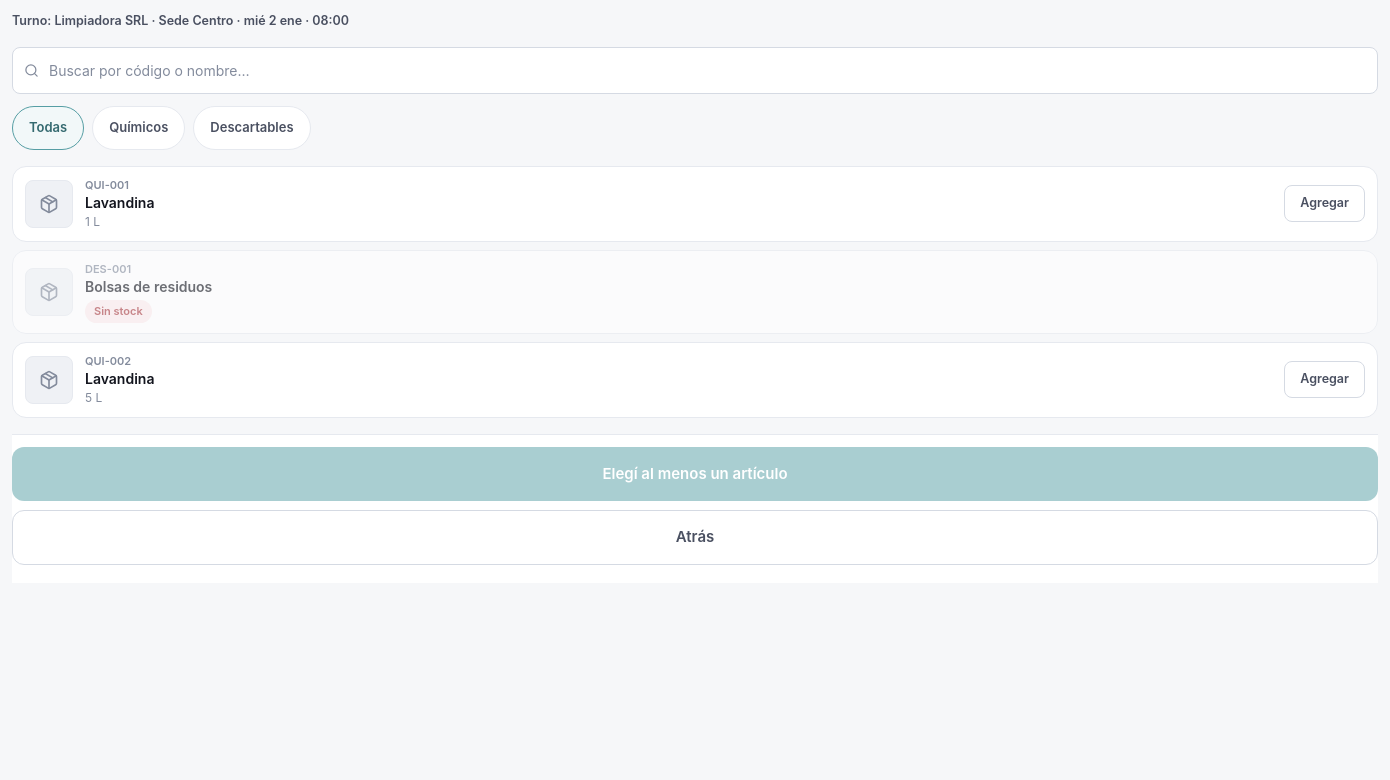
Test: WithdrawPage › en la revisión, la cantidad se ajusta y un artículo se puede quitar
Click the button with aria-label "Agregar Lavandina · 1 L".
click(1325, 204)  # box [1284,185,1365,222]
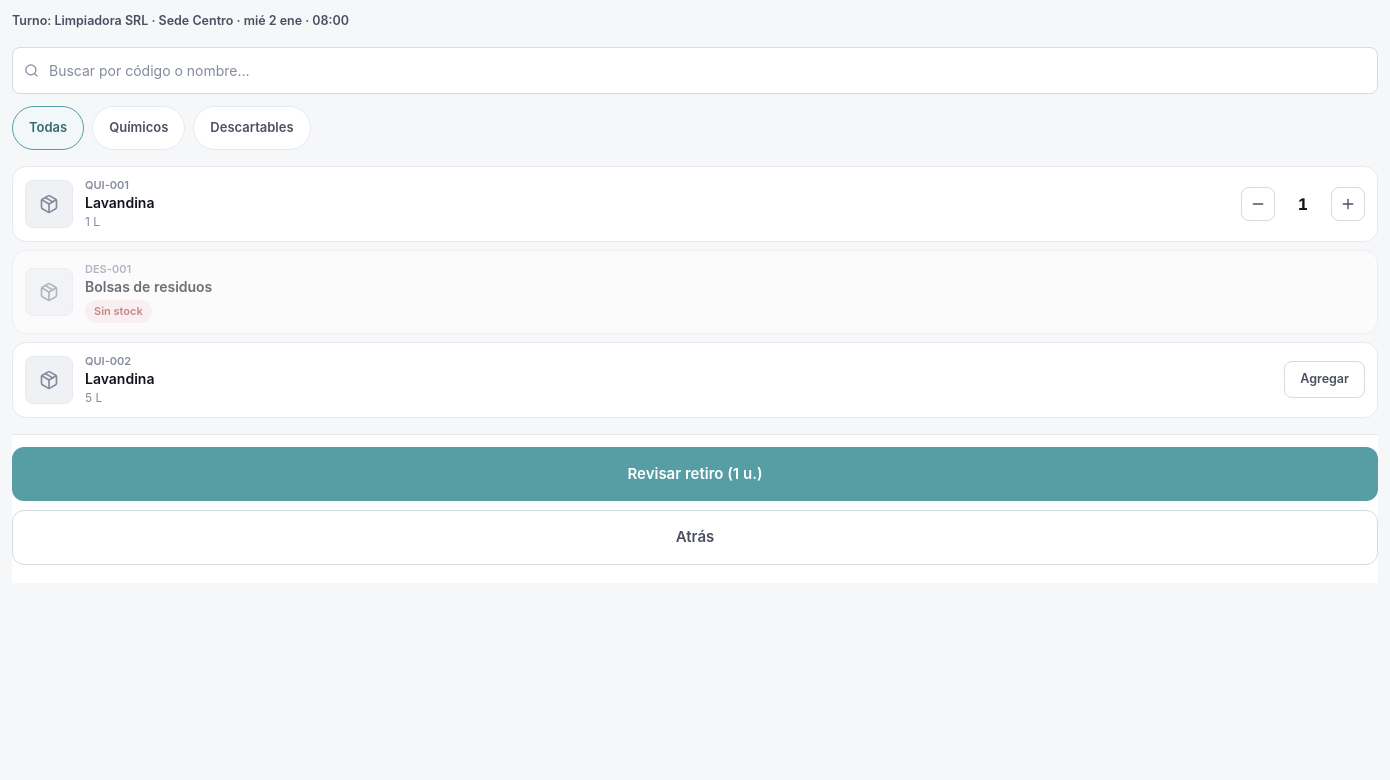
Click the button "Revisar retiro (1 u.)".
click(695, 474)  # box [12,446,1378,501]
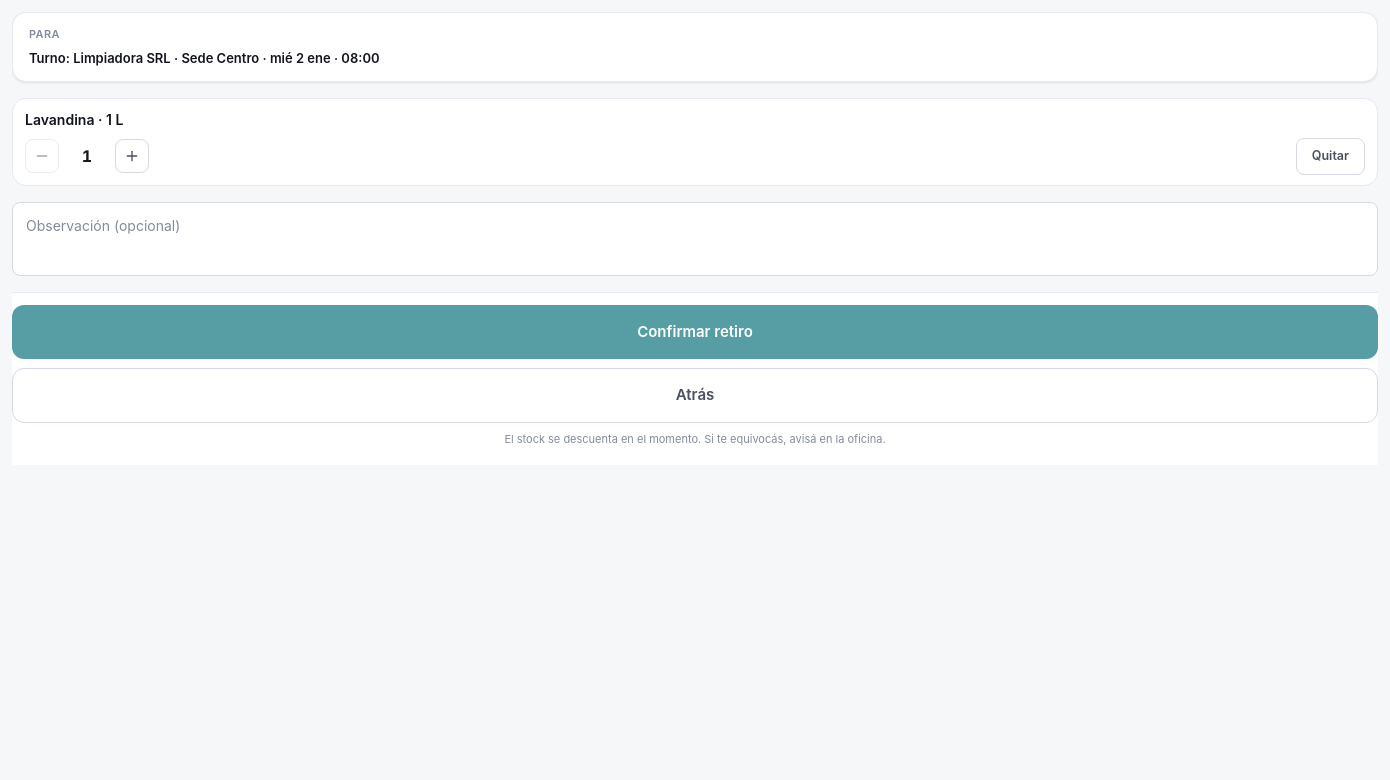
Click the button with aria-label "Quitar Lavandina · 1 L".
click(1330, 156)  # box [1296,138,1365,175]
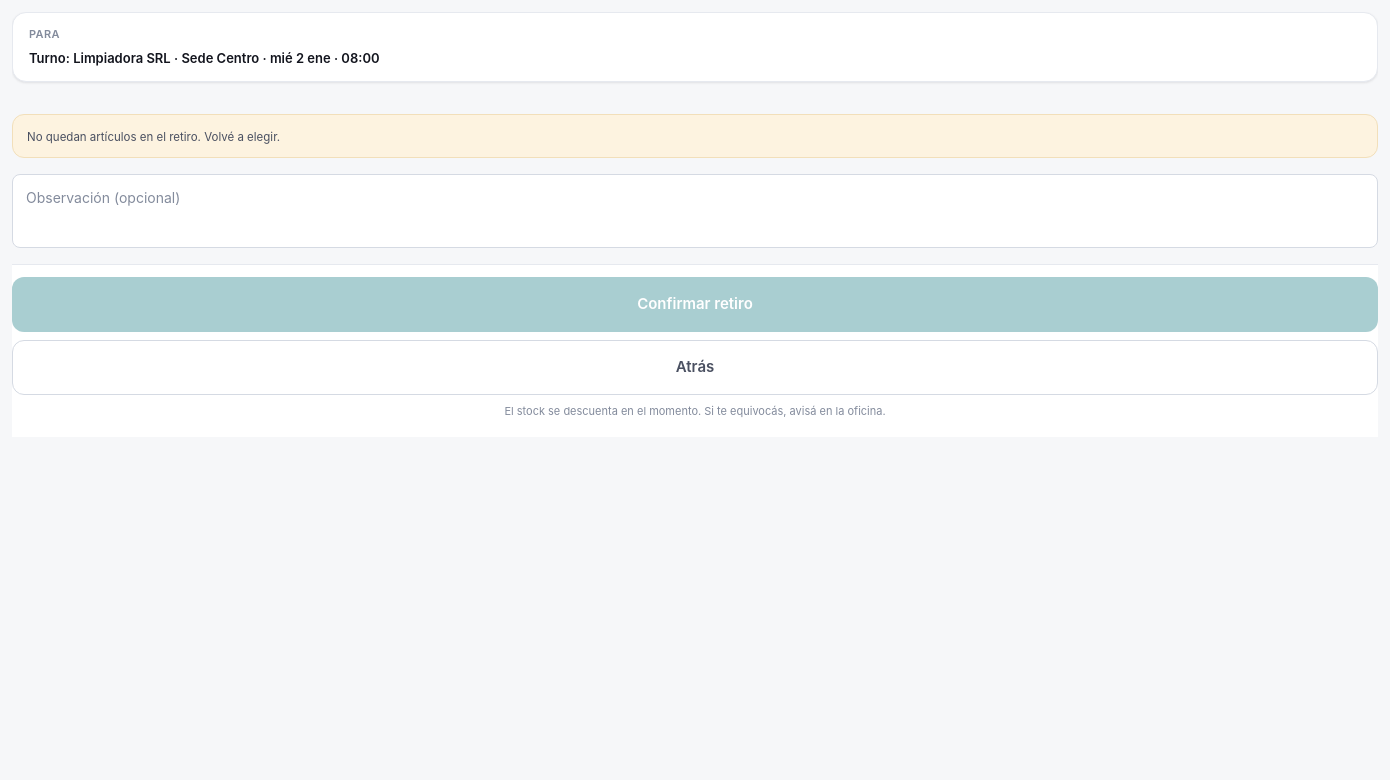
Check: the button "Confirmar retiro" is disabled, box [12,277,1378,332]
